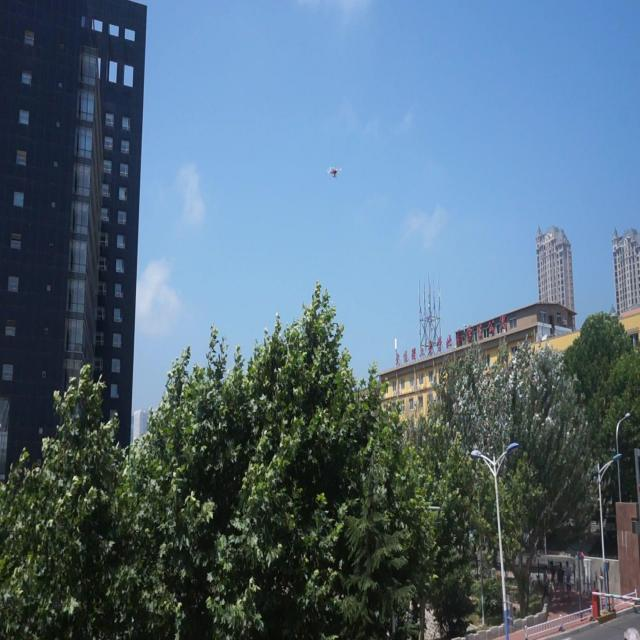UAV: (326, 166, 342, 178)
